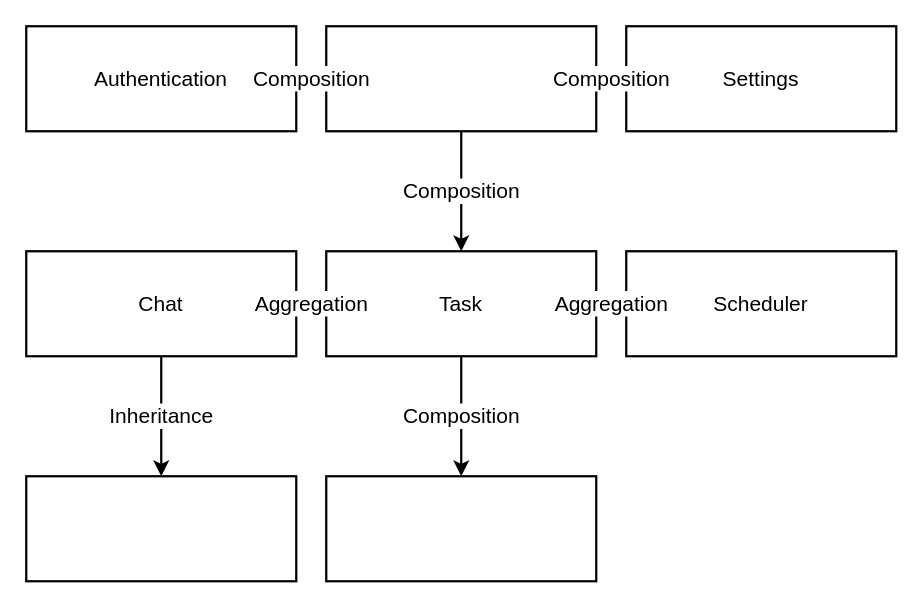
Image size: 924x609. Some labels were removed from this diagram. The shapes that lost their labels are listed below. From the top down, each one's box as (x1, y1, x2, y2) in pixels, then its label:
(324, 24, 597, 132): User
(24, 474, 297, 582): Media
(324, 474, 597, 582): Notification
